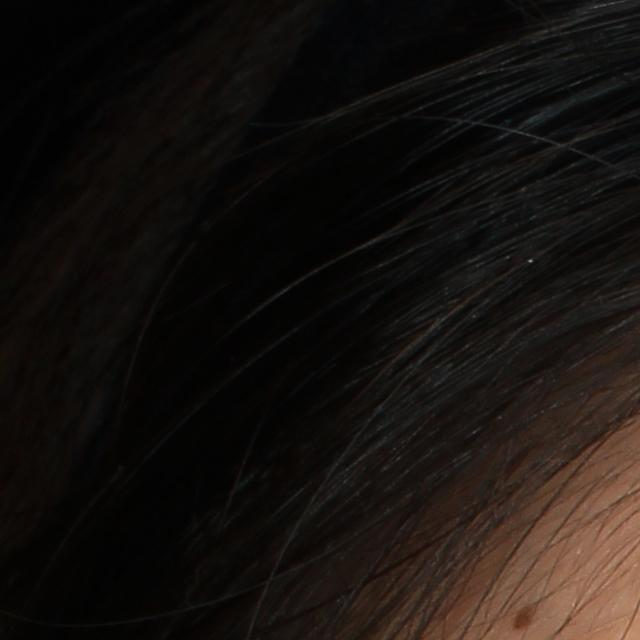nevus: (511, 597, 543, 632)
